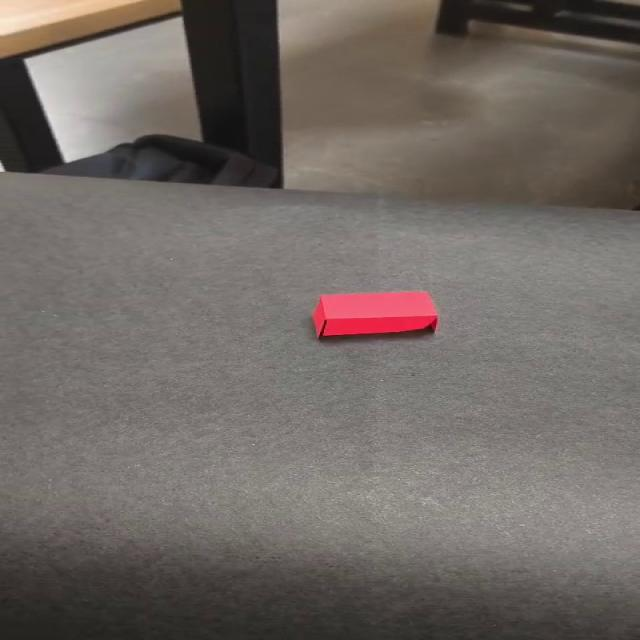red block: (311, 290, 438, 338)
